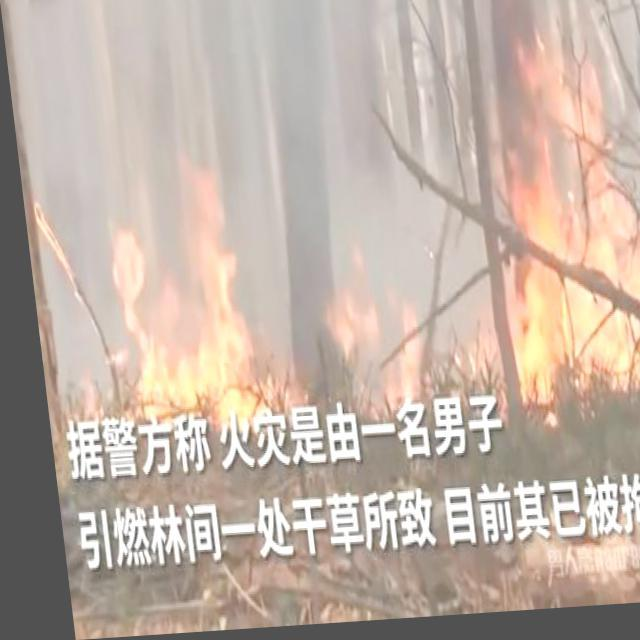Fire: (306, 58, 639, 424), (101, 179, 279, 435)
